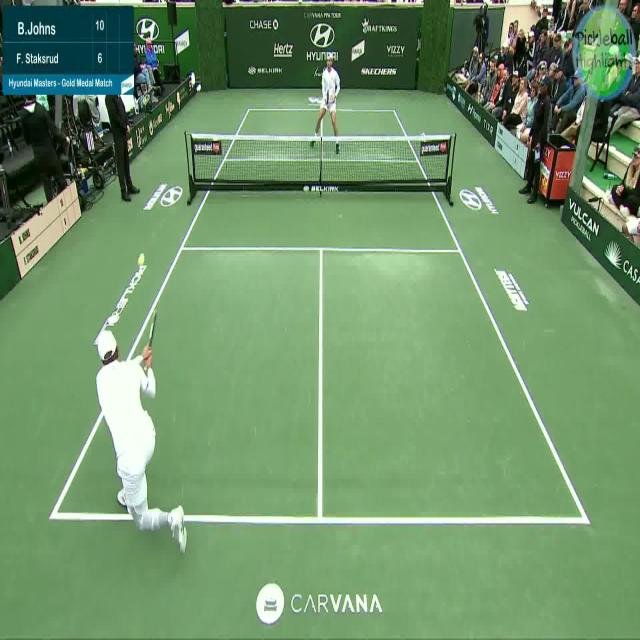Court: (54, 110, 587, 523)
ball: (136, 250, 149, 272)
